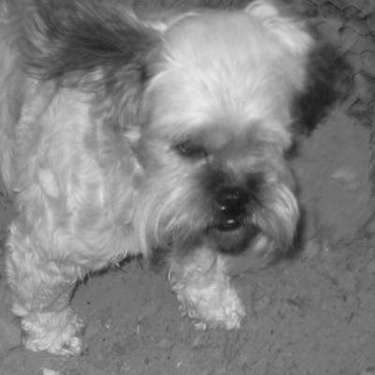dog: (1, 1, 353, 360)
